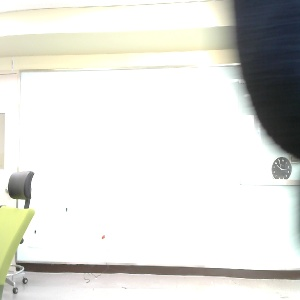Drone: (1, 3, 298, 297)
